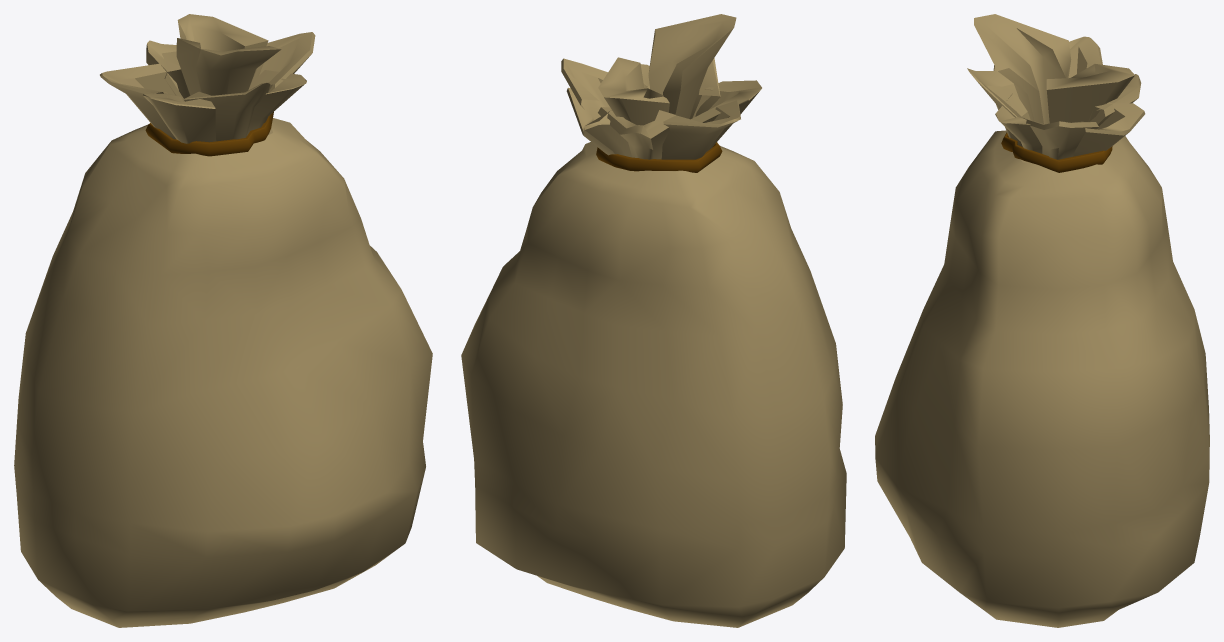
File: Sack_01.fbx
3 views of the same model, side by side, from view 1: azimuth 30°, elevation 25°; view 2: azimuth 150°, elevation 25°; view 3: azimuth 270°, elevation 25° (orthographic). The views are drawn at different scales.
Visible parts, largest first — view 1: pCube4; view 2: pCube4; view 3: pCube4.
Part boxes in pixels (left/top/right/bottom): pCube4: left=14, top=14, right=432, bottom=627; pCube4: left=461, top=14, right=846, bottom=627; pCube4: left=875, top=14, right=1209, bottom=627.
Size of the model in its own units: 37.17 by 53.92 by 30.58.
